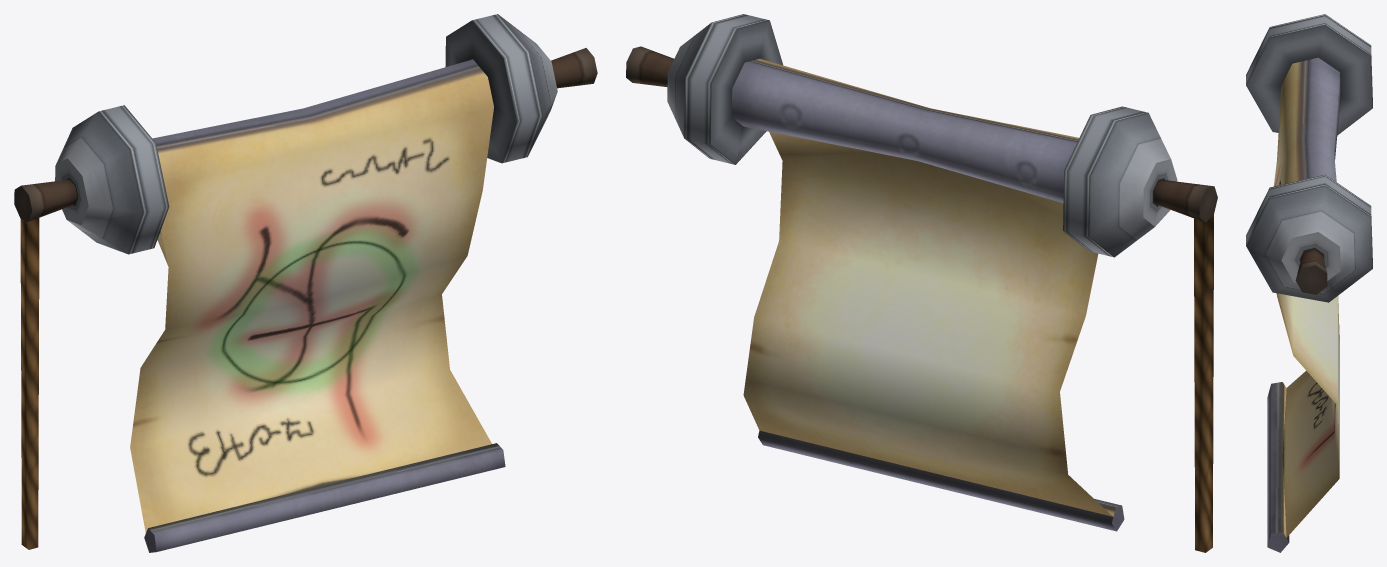
The model's file is scroll-2.glb.
The picture shows the model from 3 angles, left to right: view 1: azimuth 30°, elevation 25°; view 2: azimuth 150°, elevation 25°; view 3: azimuth 270°, elevation 25°; orthographic projection. The views are drawn at different scales.
Visible parts, largest first — view 1: scroll_2.001_Cylinder.001; view 2: scroll_2.001_Cylinder.001; view 3: scroll_2.001_Cylinder.001.
Boxes of the visible parts, x1,y1,x2,y2 form: scroll_2.001_Cylinder.001: [14, 14, 597, 552]; scroll_2.001_Cylinder.001: [626, 14, 1217, 552]; scroll_2.001_Cylinder.001: [1246, 14, 1372, 552].
Bounding box in the file's own units: 2.23 × 1.62 × 0.4906.
Materials: 1 (1 with a texture image).
